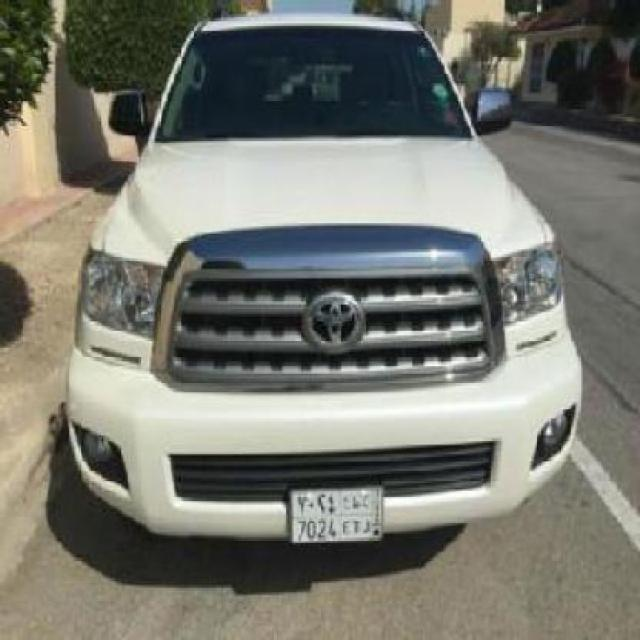license_plate: (288, 483, 386, 548)
